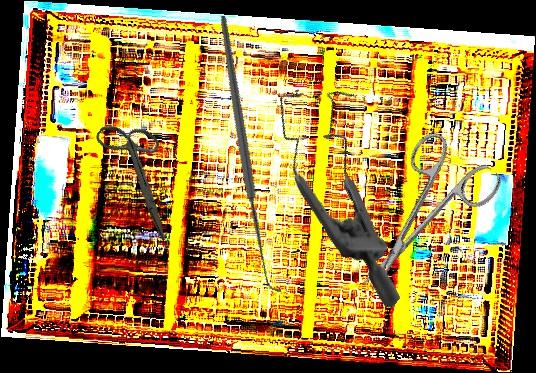Hook Surgical: (136, 15, 366, 293)
Iris Scissors: (328, 123, 507, 314), (68, 108, 211, 242)
Speculum: (216, 60, 481, 312)
